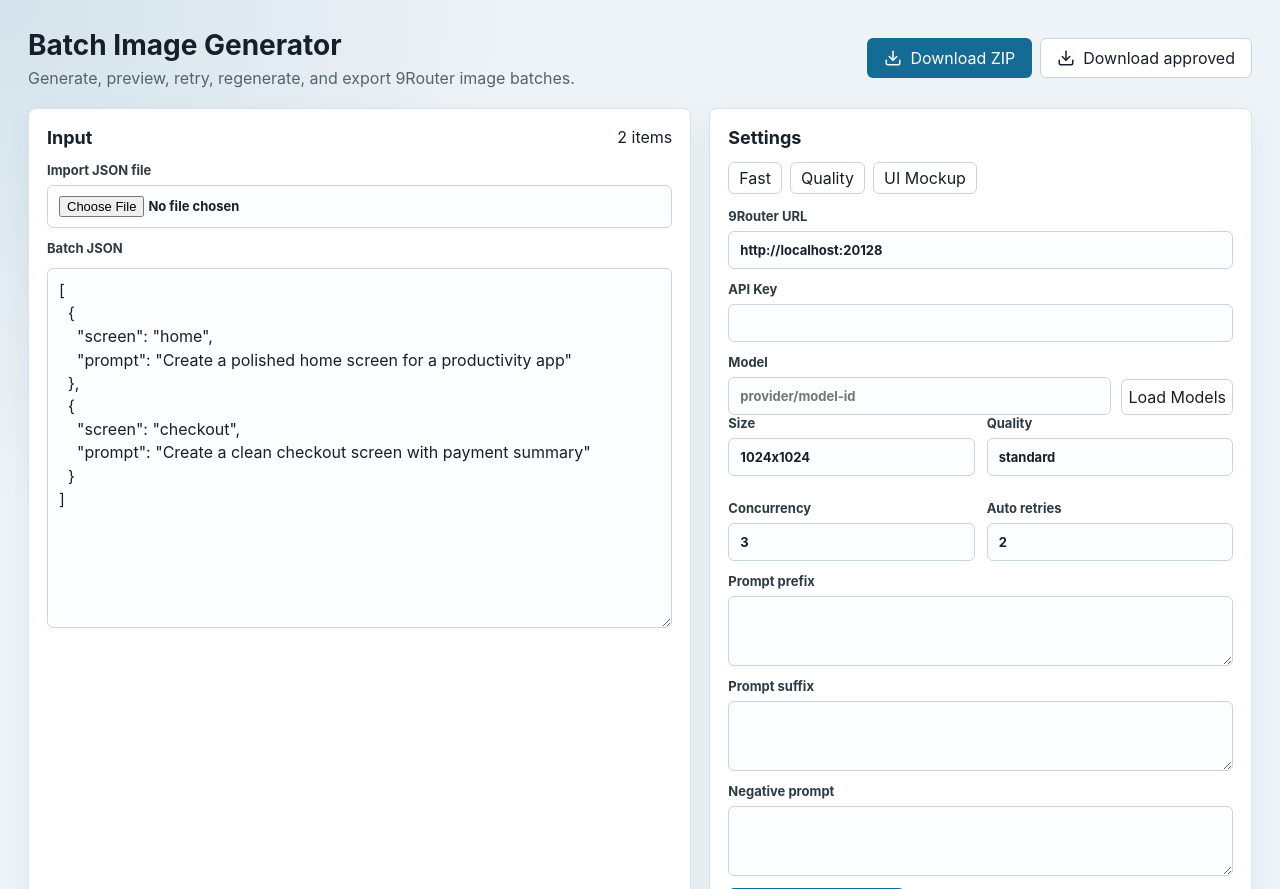
App › shows approved zip validation errors inside the app
Step 1. Click the button "Download approved" → (1146, 58), box [1040, 38, 1252, 78]
(page scrolled)
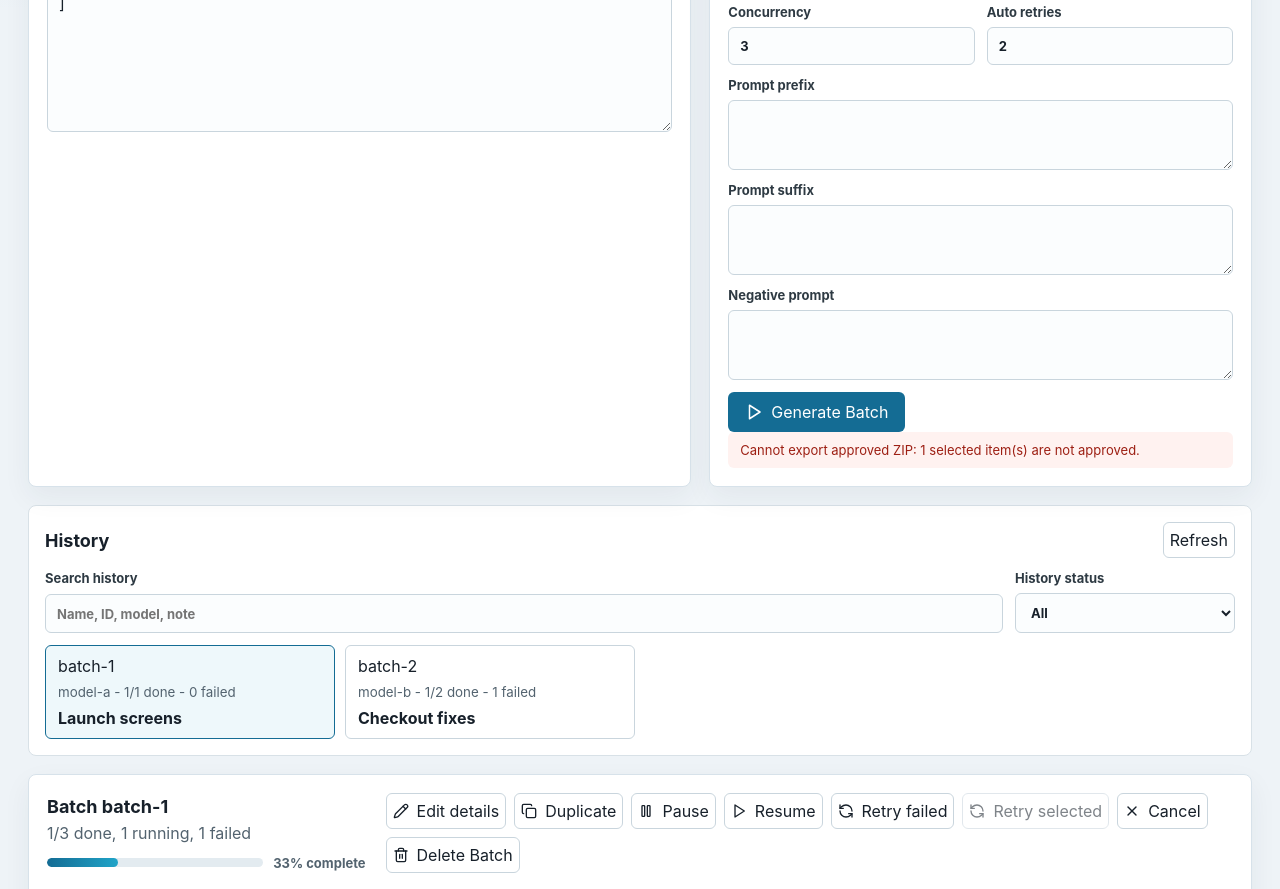
expect the text "Cannot export approved ZIP: 1 selected item(s) are not approved." is shown: met, box [728, 432, 1233, 468]
